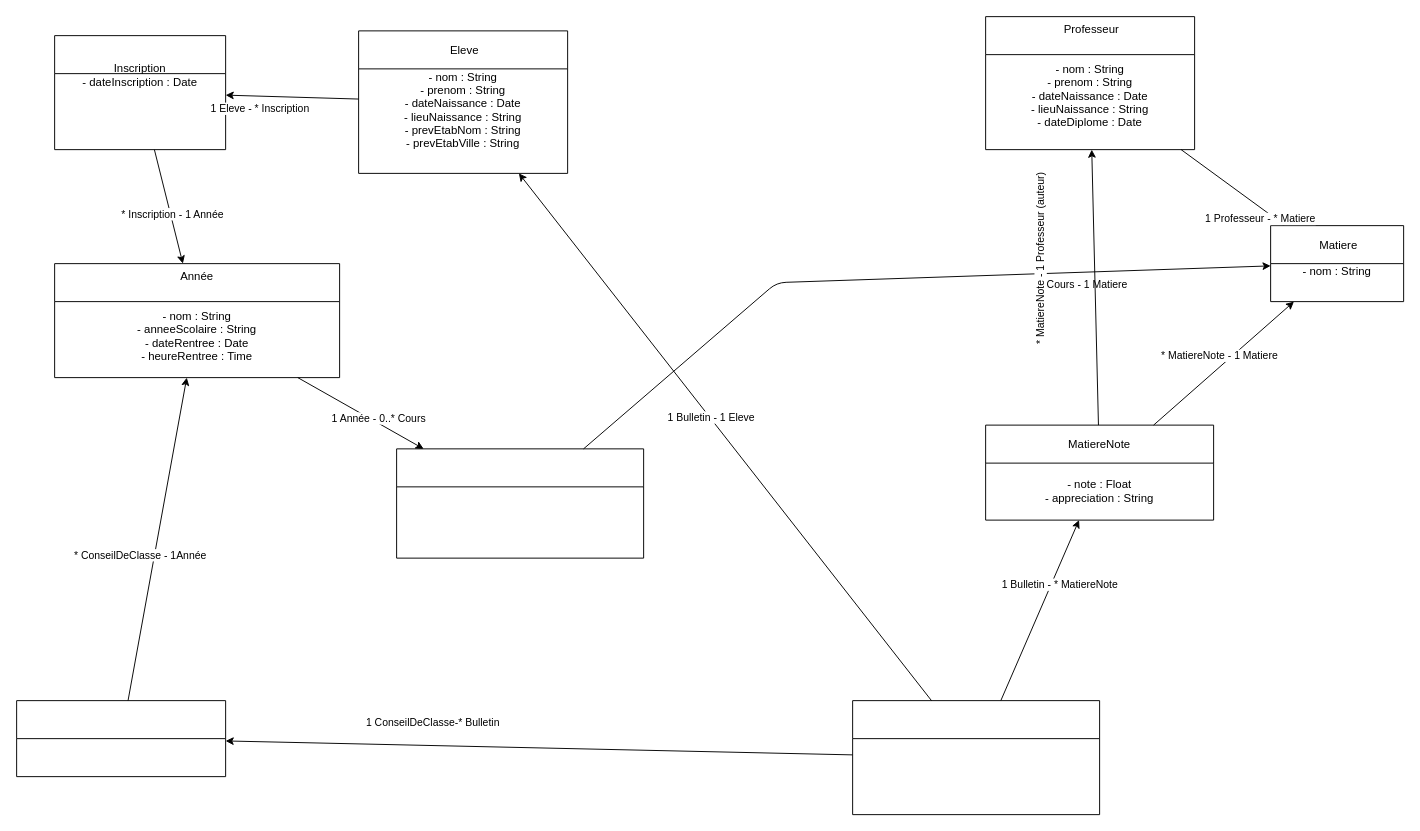
This 1420x831 diagram has some shape labels left out. Here are the shapes that lost their labels. From the top down, the centre of each, then its label:
At point (520, 503): "Cours jour : String heureDebut : Time heureFin : Time salle : String".
At point (121, 738): "Conseil De Classe - nom : String - date : Date".
At point (976, 757): "Bulletin moyenneGenerale : Float - appreciationGenerale : String".
